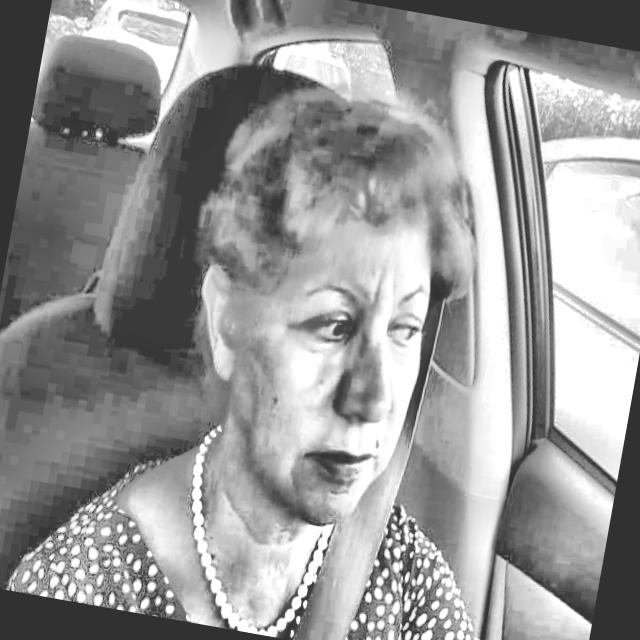closed_mouth: (279, 431, 396, 509)
open_eyes: (286, 294, 364, 361), (375, 303, 440, 357)
